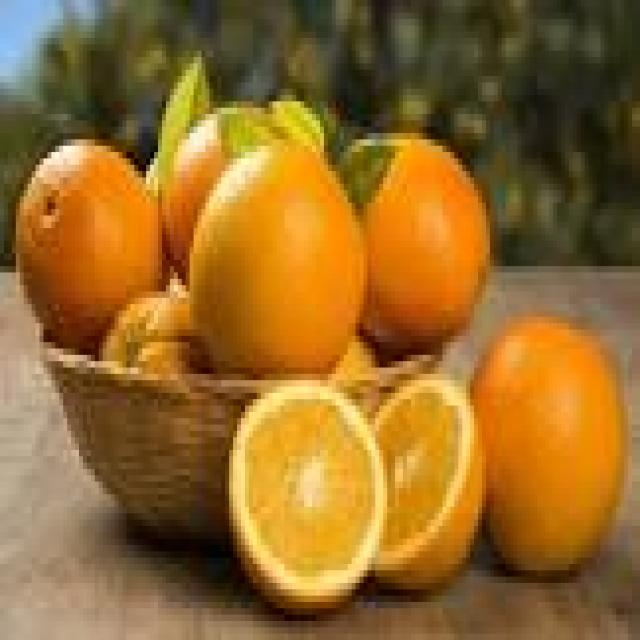orange: (190, 142, 365, 375), (472, 317, 626, 571), (229, 381, 386, 612), (18, 138, 162, 351), (365, 142, 490, 347), (375, 375, 485, 589)
